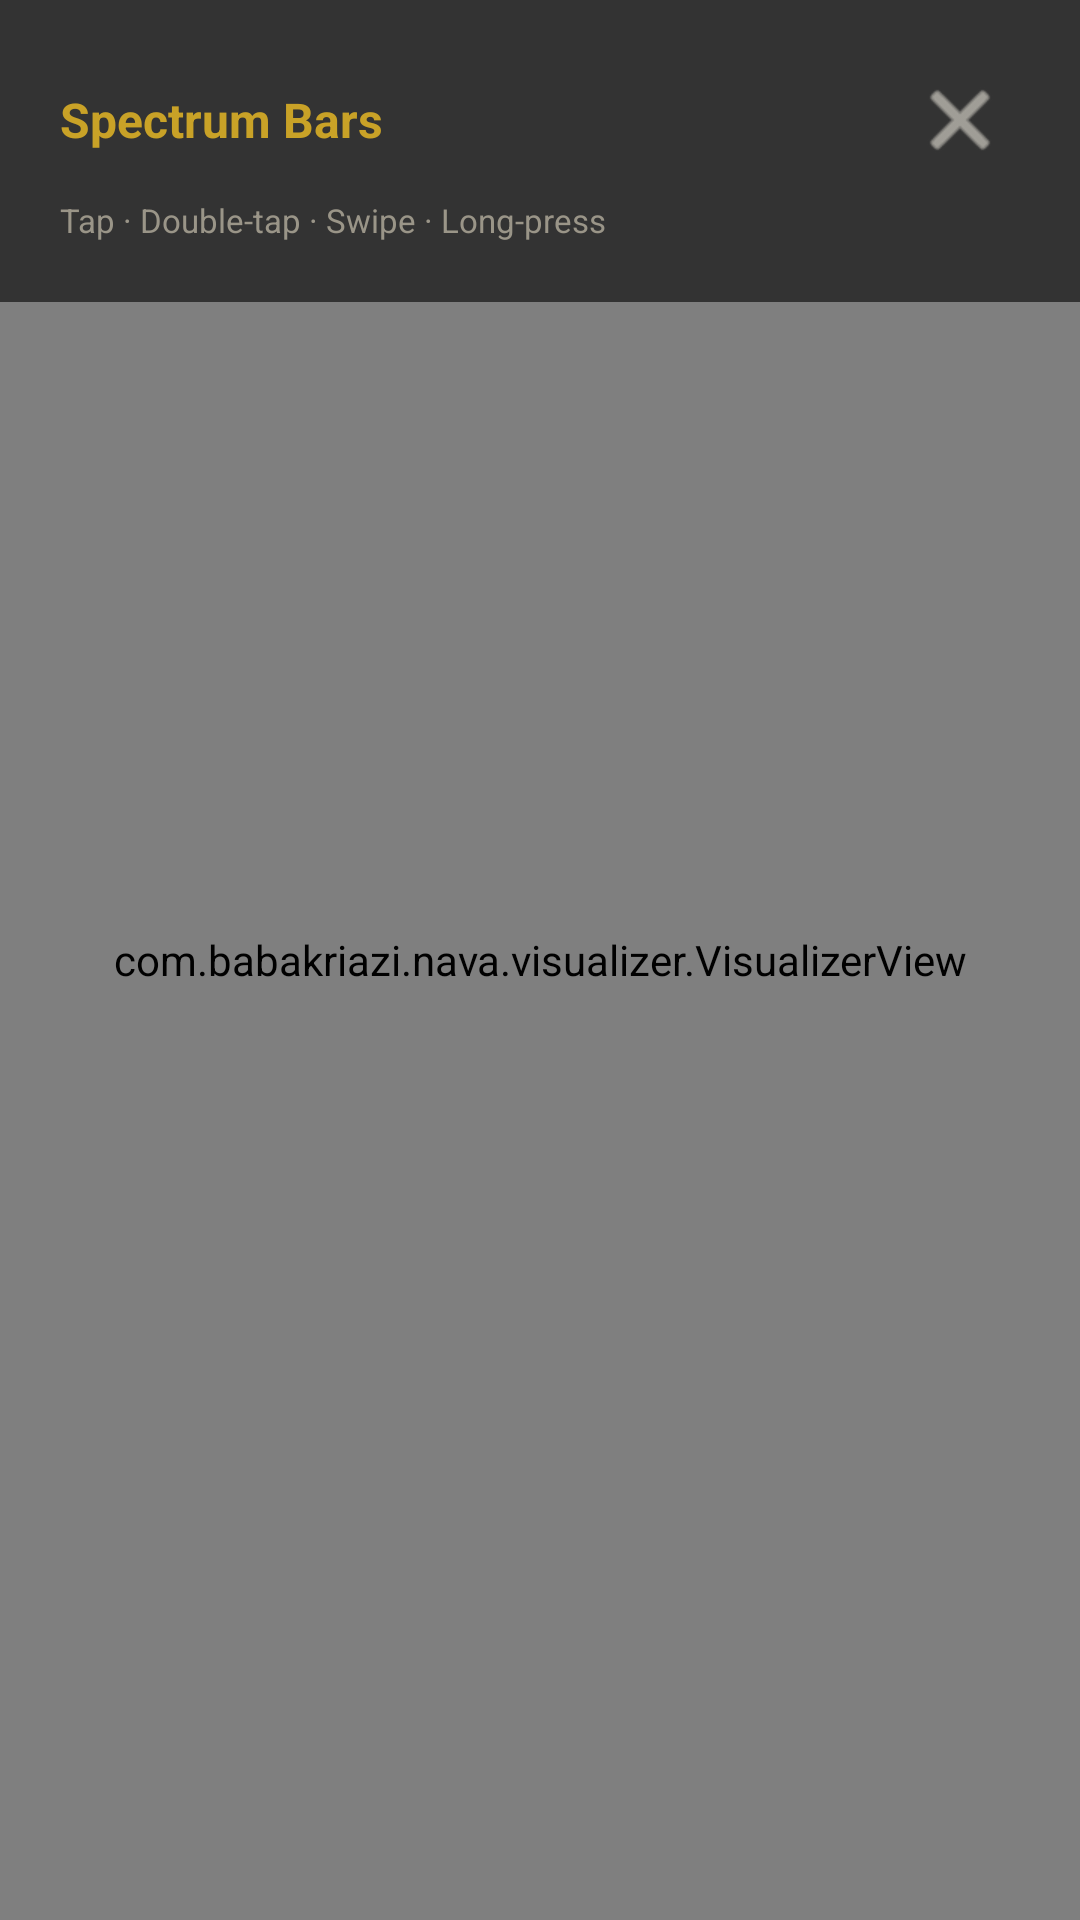

Locate icon controls on the screen. Image size 1080×1920, boxes as (x1, y1, x2, y2).
Close: (930, 90, 990, 150)
